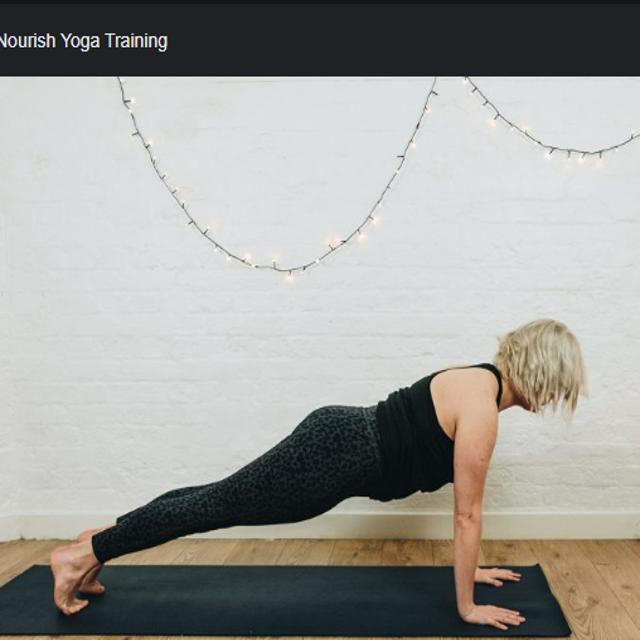Plank_Pose: (36, 311, 586, 640)
